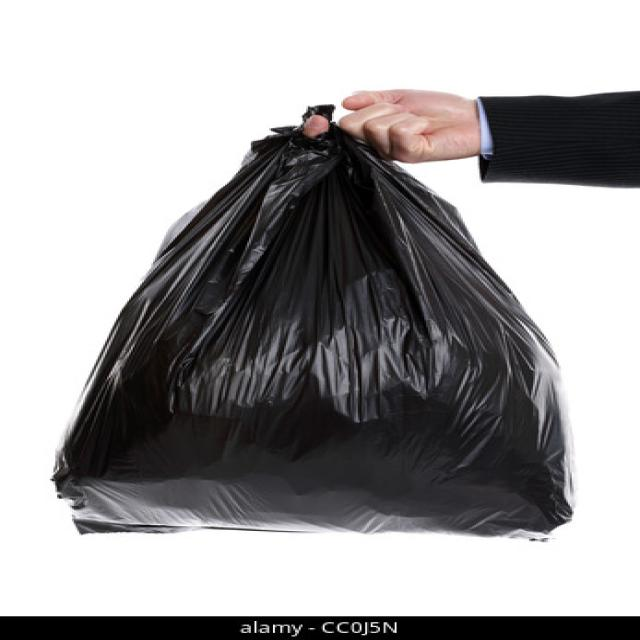trash: (67, 101, 598, 543)
